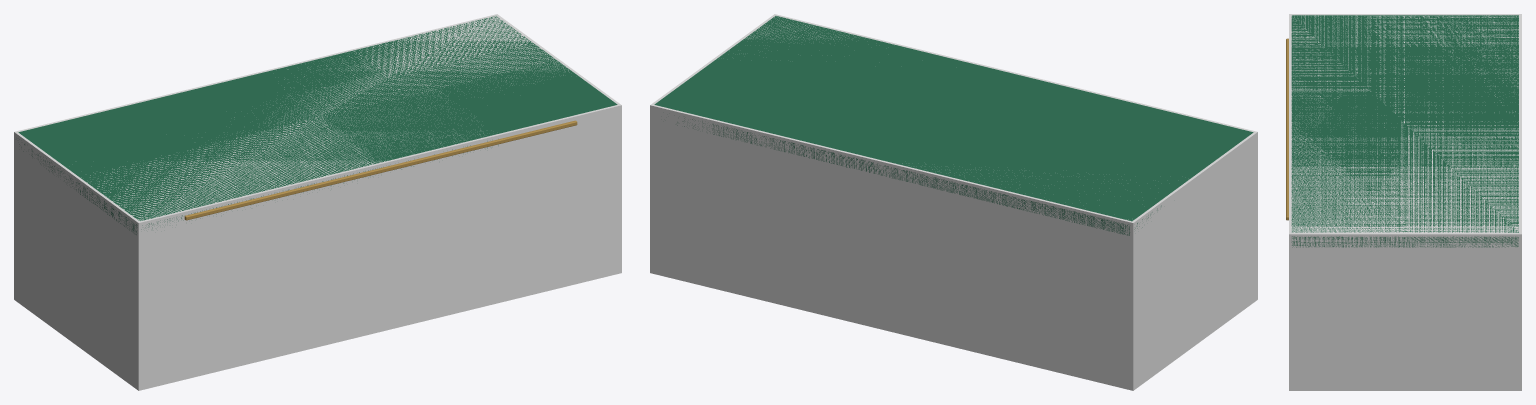
The model's file is conference-table_boutique.glb.
3 renders of one model, left to right at view 1: azimuth 30°, elevation 25°; view 2: azimuth 150°, elevation 25°; view 3: azimuth 270°, elevation 25°, orthographic. The views are drawn at different scales.
Visible parts, largest first — view 1: COL_conference-table, MESH_Top, MESH_TierTrim_01; view 2: COL_conference-table, MESH_Top; view 3: COL_conference-table, MESH_Top, MESH_TierTrim_01.
Part boxes in pixels (bbox=[...]): COL_conference-table: bbox=[14, 14, 621, 390]; MESH_Top: bbox=[18, 16, 617, 234]; MESH_TierTrim_01: bbox=[184, 120, 577, 220]; COL_conference-table: bbox=[650, 14, 1257, 390]; MESH_Top: bbox=[654, 16, 1253, 235]; COL_conference-table: bbox=[1289, 14, 1521, 390]; MESH_Top: bbox=[1291, 15, 1518, 247]; MESH_TierTrim_01: bbox=[1286, 38, 1288, 220].
Bounding box in the file's own units: 2.35 × 0.78 × 1.06.
